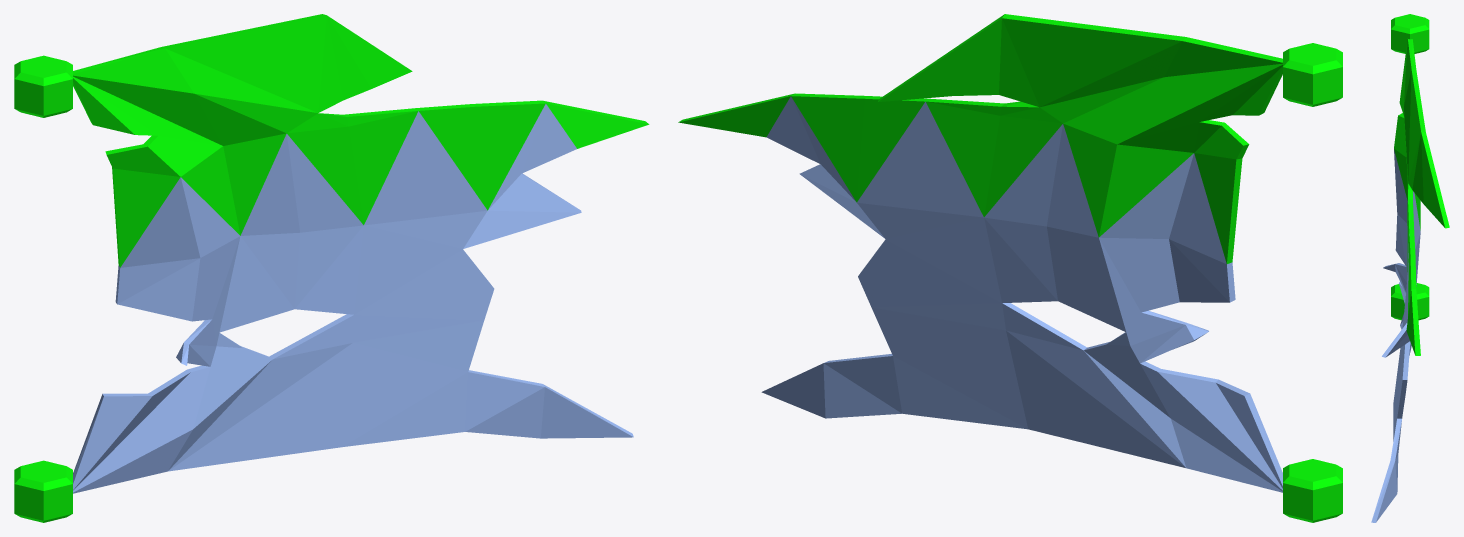
The model's file is SM_Flag_Regular_B_Broken_Fantasy.fbx.
3 views of the same model, side by side, from view 1: azimuth 30°, elevation 25°; view 2: azimuth 150°, elevation 25°; view 3: azimuth 270°, elevation 25° (orthographic). The views are drawn at different scales.
Parts seen in each view (by area): view 1: flag-regular-b-broken-fantasy; view 2: flag-regular-b-broken-fantasy; view 3: flag-regular-b-broken-fantasy.
Boxes of the visible parts, x1,y1,x2,y2 form: flag-regular-b-broken-fantasy: (14, 14, 649, 522); flag-regular-b-broken-fantasy: (678, 14, 1342, 522); flag-regular-b-broken-fantasy: (1371, 14, 1449, 522).
Bounding box in the file's own units: 0.9816 × 0.7131 × 0.1585.
